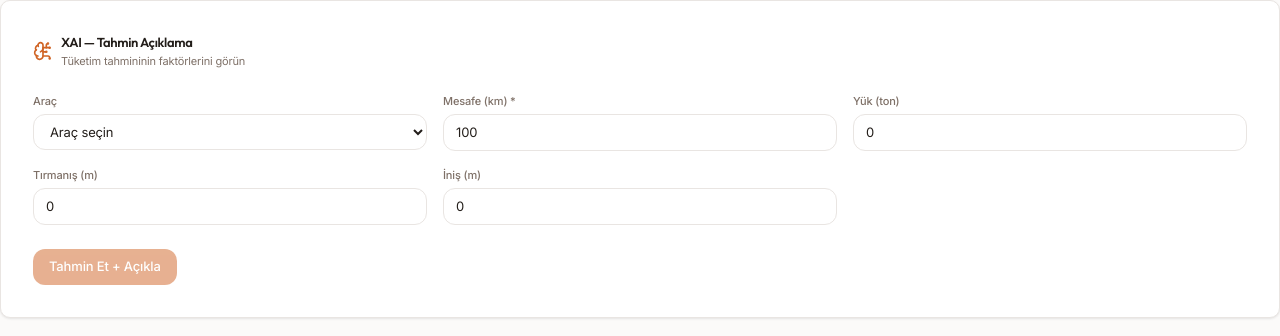
Scenario: XaiPanel › enables submit button after selecting a vehicle
The image size is (1280, 336).
Step 1. Select "06VEH005" in the dropdown → (230,132), box x1=33 y1=114 x2=427 y2=150
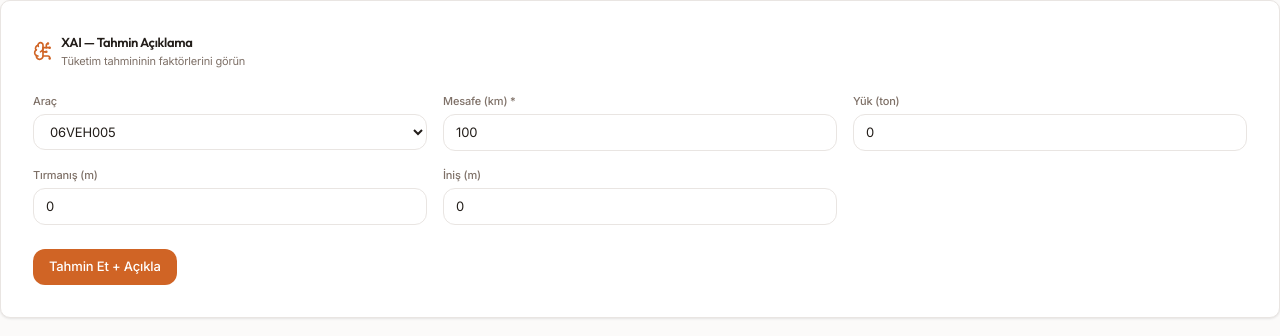
Now the button "Tahmin Et + Açıkla" is enabled, box x1=33 y1=249 x2=177 y2=284
